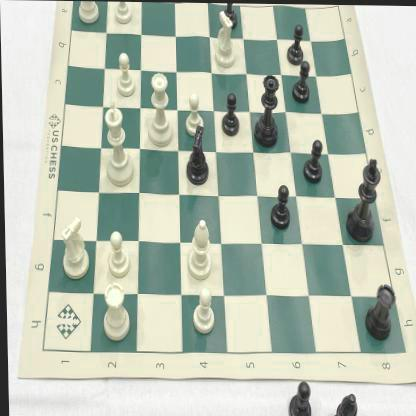black-king: (342, 150, 382, 244)
black-knight: (181, 124, 211, 186)
black-pawn: (266, 178, 294, 233), (218, 88, 242, 140), (300, 136, 324, 187), (288, 58, 314, 104), (284, 22, 306, 66), (219, 2, 240, 30)
black-queen: (250, 69, 283, 149)
black-rook: (359, 276, 397, 344)
white-bishop: (184, 218, 213, 282)
white-king: (100, 98, 136, 188)
white-knight: (56, 216, 92, 281), (212, 7, 238, 72)
white-pawn: (188, 284, 216, 338), (104, 229, 130, 281), (114, 50, 137, 98), (182, 90, 204, 137), (111, 1, 136, 26)
white-queen: (146, 68, 176, 149)
white-rook: (100, 282, 131, 344), (74, 1, 102, 27)
